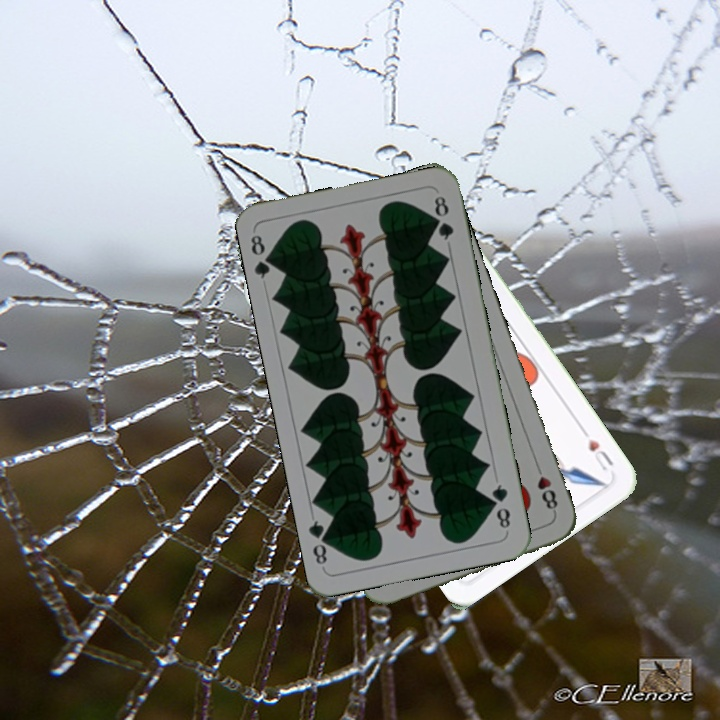G8: (246, 231, 279, 281), (487, 480, 513, 531)
H8: (531, 459, 561, 515)
HU: (584, 434, 616, 475)
